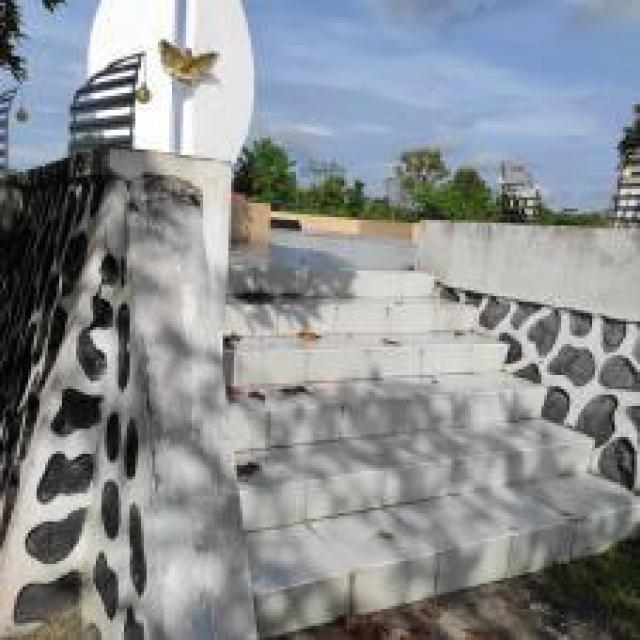upstair: (221, 249, 638, 607)
